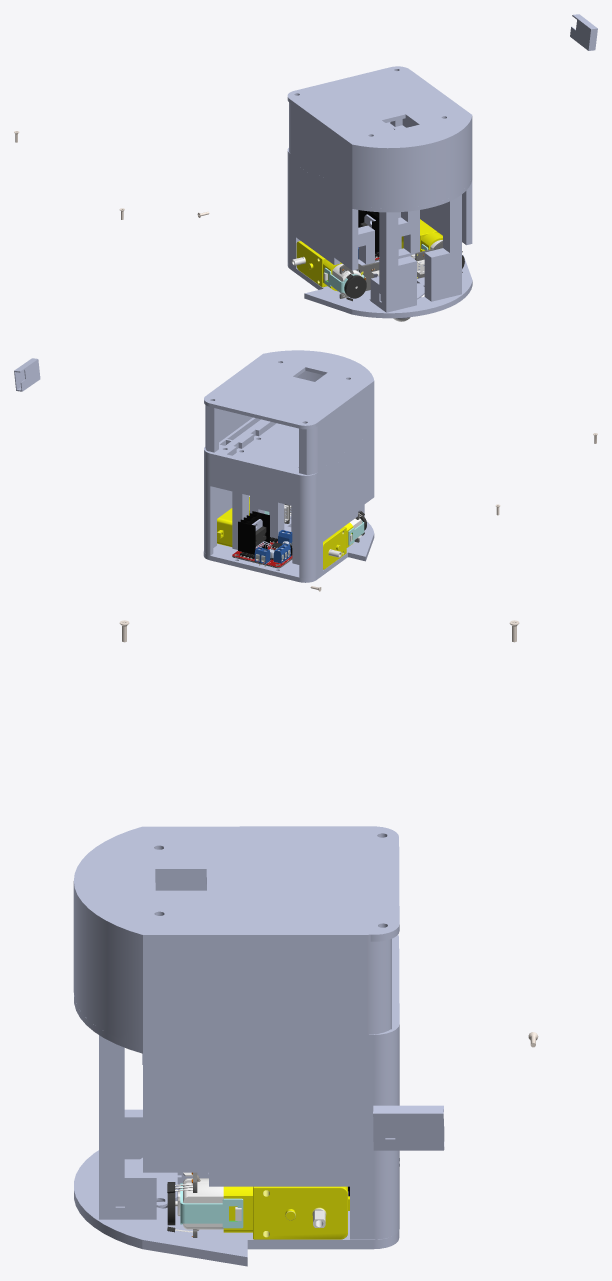
File: rapido.glb
The picture shows the model from 3 angles, top to bottom: view 1: azimuth 30°, elevation 25°; view 2: azimuth 150°, elevation 25°; view 3: azimuth 270°, elevation 25°; orthographic projection. The views are drawn at different scales.
Visible parts, largest first — view 1: FIT0450.STEP-1/____________________.STEP-1; view 2: FIT0450.STEP-1/____________________.STEP-1; view 3: FIT0450.STEP-1/____________________.STEP-1.
Part boxes in pixels (x1,y1,x2,y2): FIT0450.STEP-1/____________________.STEP-1: (14,14,597,321); FIT0450.STEP-1/____________________.STEP-1: (14,350,597,591); FIT0450.STEP-1/____________________.STEP-1: (73,620,538,1266).
Size of the model in its own units: 0.4533 by 0.153 by 0.1809.
Materials: 3 (3 with a texture image).
